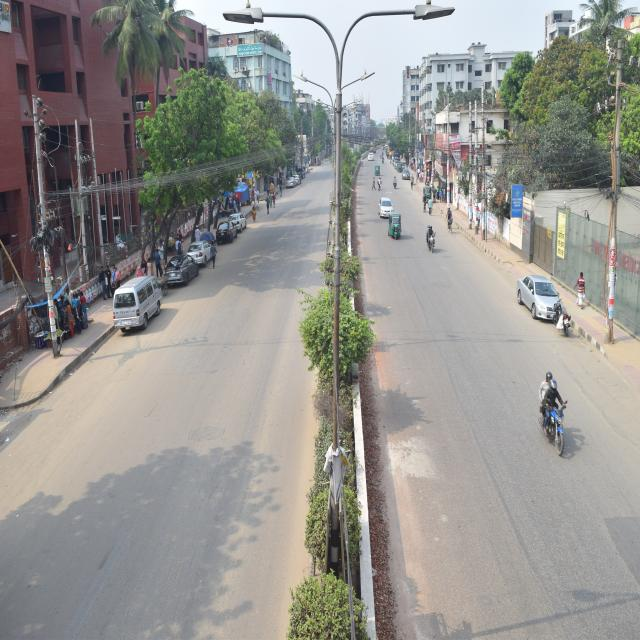car: (512, 262, 570, 326), (159, 245, 200, 292), (187, 234, 217, 270), (216, 215, 241, 251), (226, 211, 251, 237), (374, 192, 393, 222), (286, 171, 300, 188), (398, 168, 410, 180)
microbus: (106, 274, 170, 336)
motorbike: (534, 363, 576, 463), (548, 292, 575, 340), (424, 230, 442, 256)
